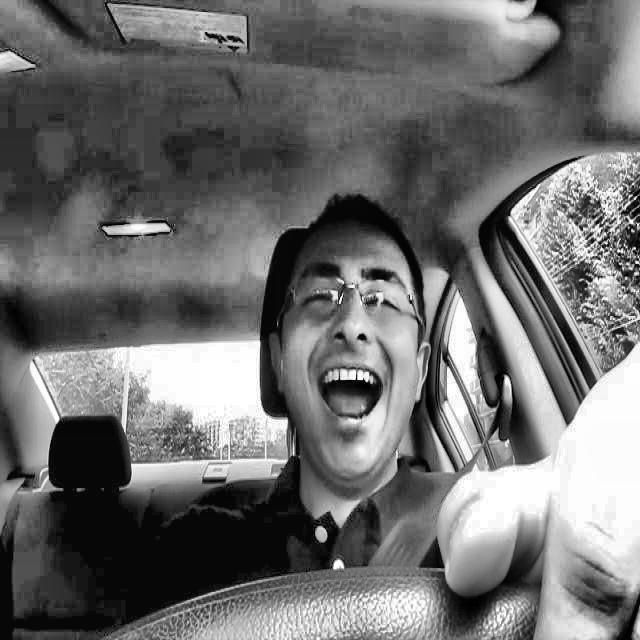closed_eyes: (357, 279, 407, 325), (298, 279, 348, 318)
open_mouth: (296, 348, 406, 444)
